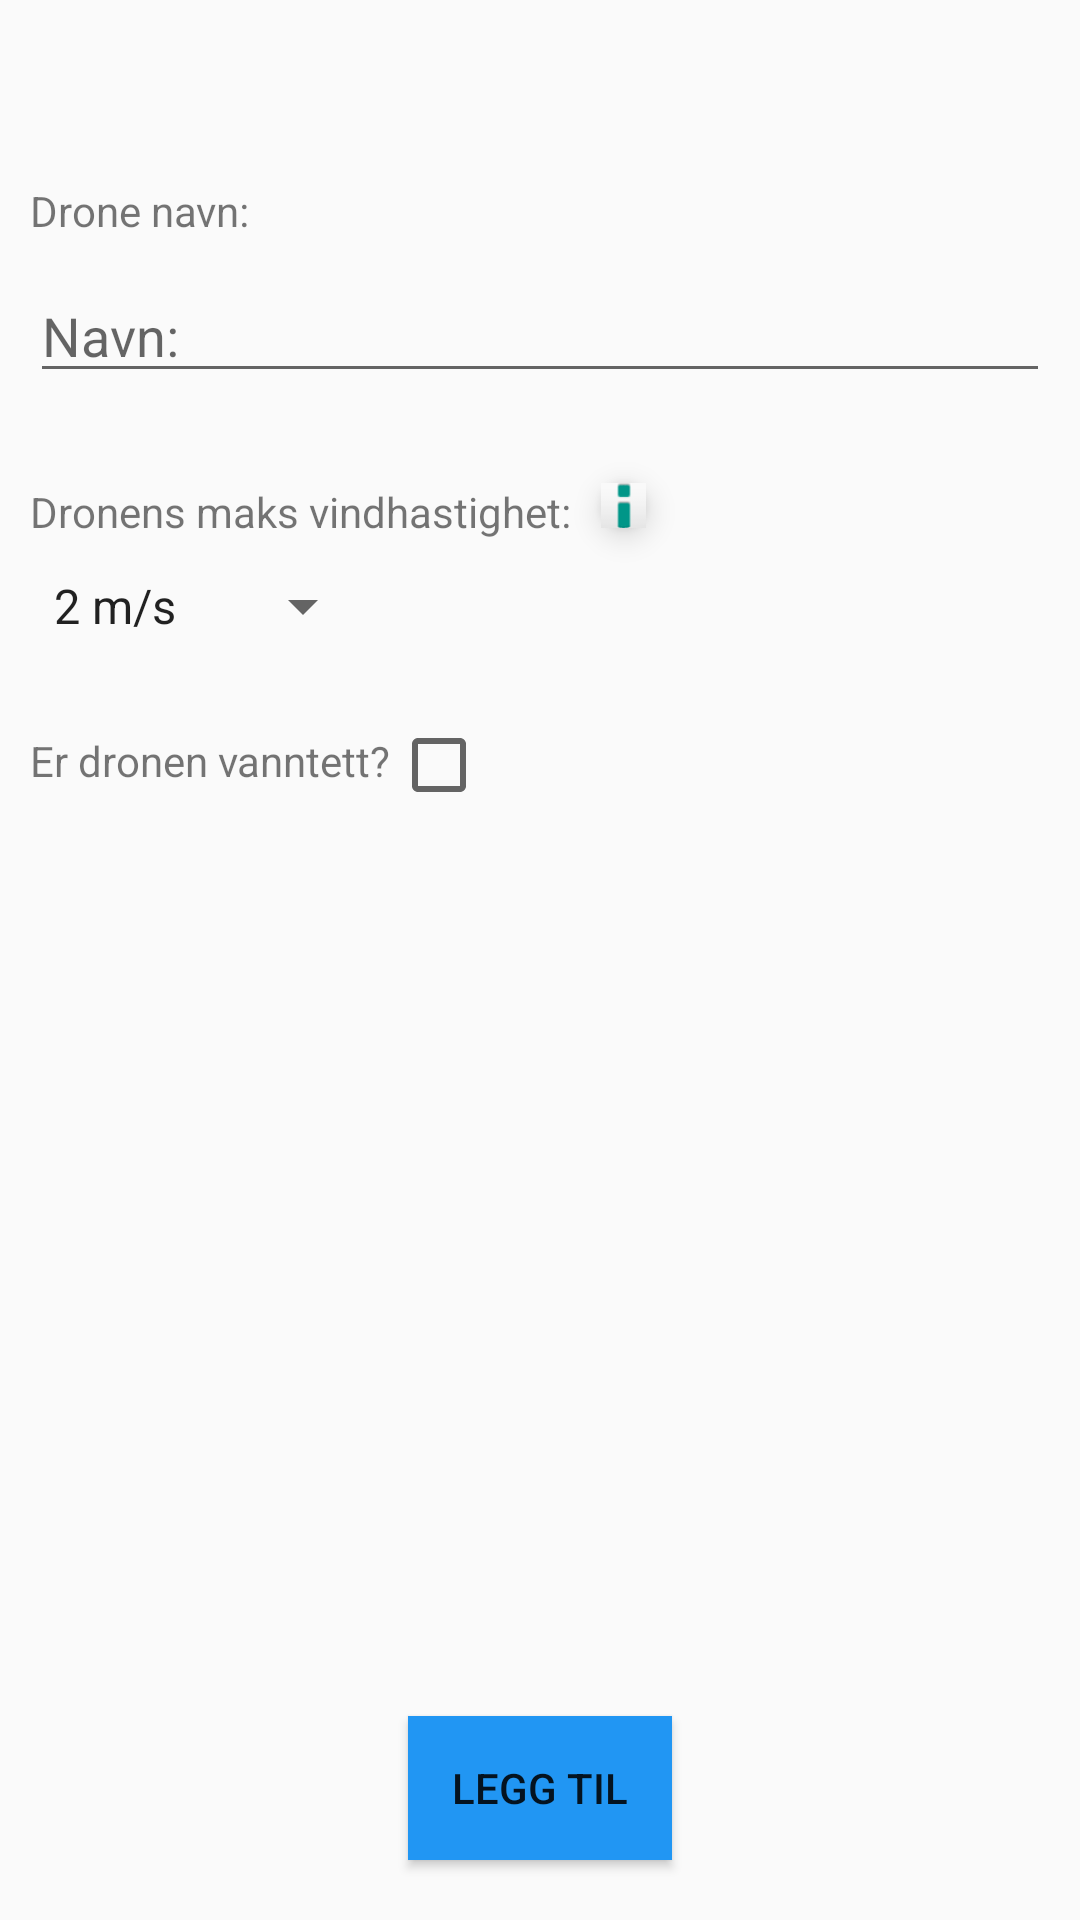

Icons on this 1080 x 1920 Android screen, each with its box as (x1,y1,x2,y2):
info: (617,483,631,528)
